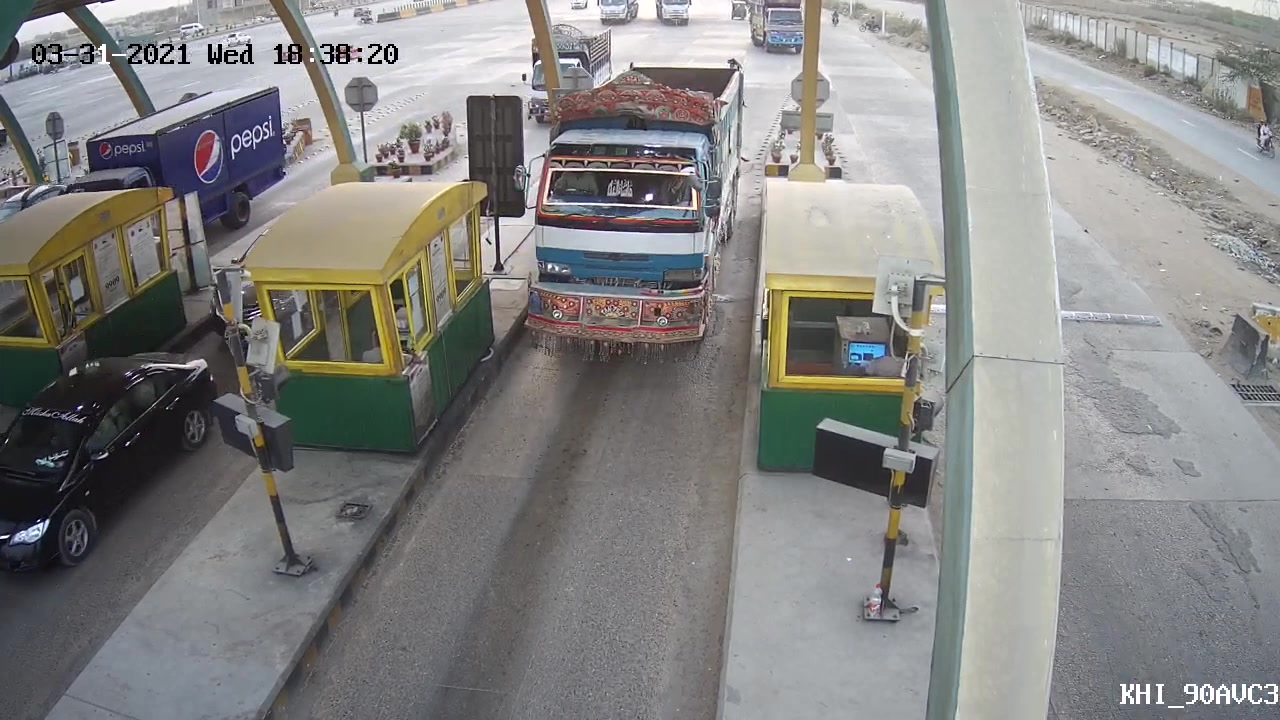F5: (509, 54, 753, 361)
